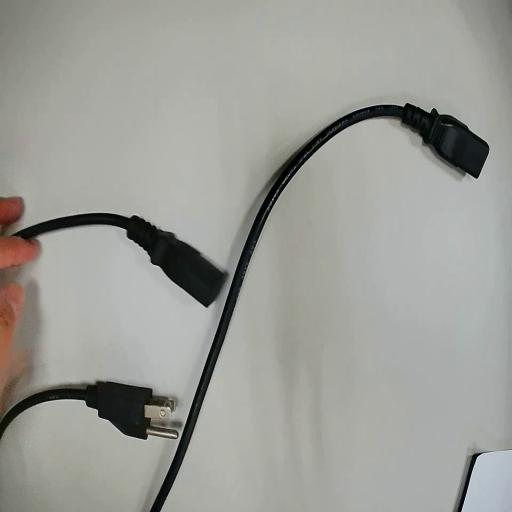wire: (150, 104, 487, 511), (13, 214, 225, 305), (0, 382, 163, 437)
